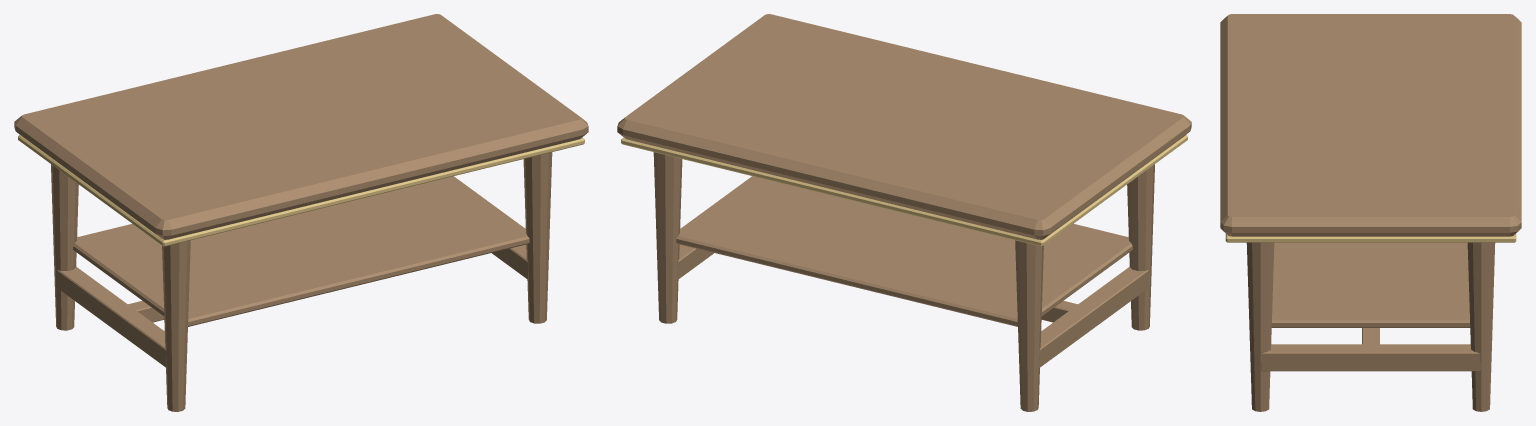
Rendered from bar-pub-and-brewery-taproom-low-coffee-table-2ee88214__18383.glb.
3 renders of one model, left to right at view 1: azimuth 30°, elevation 25°; view 2: azimuth 150°, elevation 25°; view 3: azimuth 270°, elevation 25°, orthographic.
Parts seen in each view (by area): view 1: low-coffee-table; view 2: low-coffee-table; view 3: low-coffee-table.
Part boxes in pixels (<box>): low-coffee-table: <box>14,14,588,411</box>; low-coffee-table: <box>617,14,1191,411</box>; low-coffee-table: <box>1220,14,1521,411</box>.
Size of the model in its own units: 0.92 by 0.4199 by 0.56.
